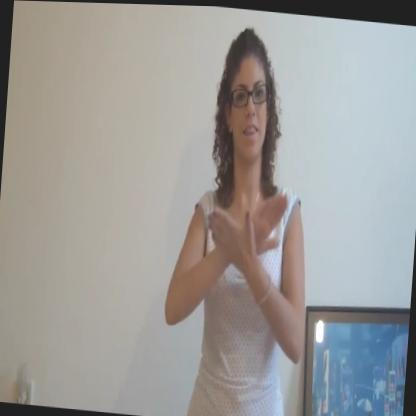NiceToMeetYou: (190, 166, 285, 295)
